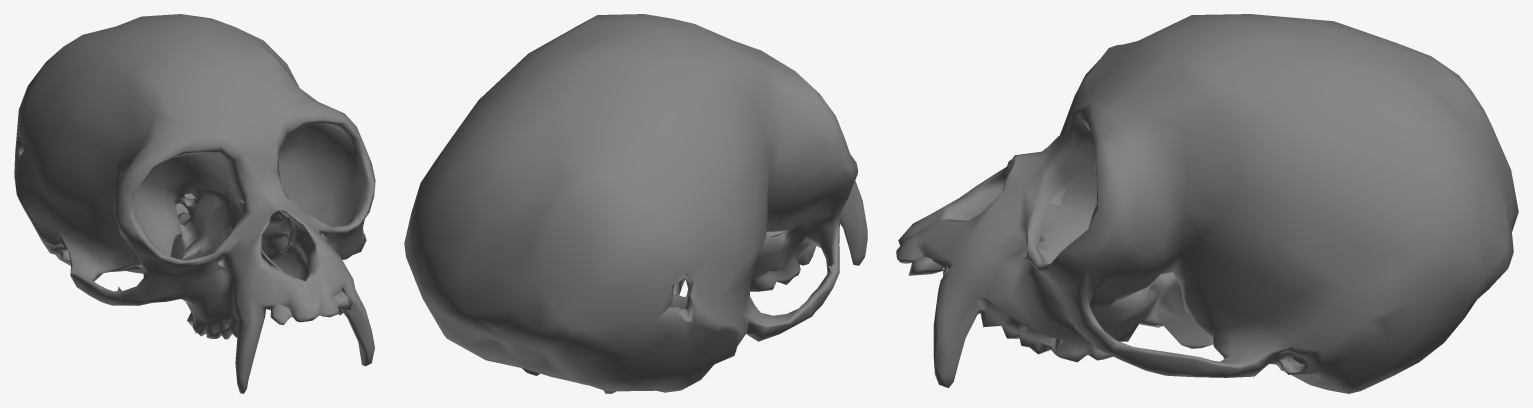
The picture shows the model from 3 angles, left to right: view 1: azimuth 30°, elevation 25°; view 2: azimuth 150°, elevation 25°; view 3: azimuth 270°, elevation 25°; orthographic projection. The views are drawn at different scales.
Visible parts, largest first — view 1: pMesh1; view 2: pMesh1; view 3: pMesh1.
Boxes of the visible parts, bbox=[...] form: pMesh1: bbox=[14, 14, 375, 393]; pMesh1: bbox=[404, 14, 867, 393]; pMesh1: bbox=[896, 14, 1518, 393].
Size of the model in its own units: 1.91 by 1.72 by 3.01.
Materials: 1 (1 with a texture image).
